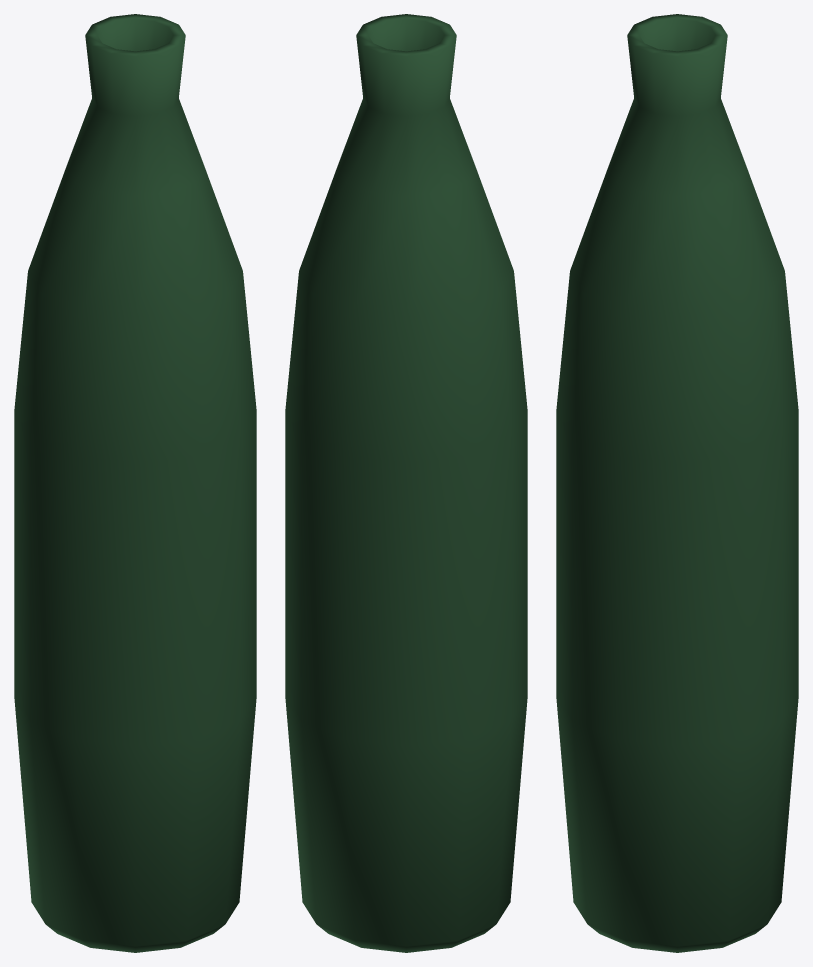
File: glass_bottle.glb
The picture shows the model from 3 angles, left to right: view 1: azimuth 30°, elevation 25°; view 2: azimuth 150°, elevation 25°; view 3: azimuth 270°, elevation 25°; orthographic projection.
Parts seen in each view (by area): view 1: glass_bottle; view 2: glass_bottle; view 3: glass_bottle.
Part boxes in pixels (bbox=[...]): glass_bottle: bbox=[14, 14, 256, 952]; glass_bottle: bbox=[285, 14, 527, 952]; glass_bottle: bbox=[556, 14, 798, 952].
Bounding box in the file's own units: 0.07 × 0.28 × 0.07.
